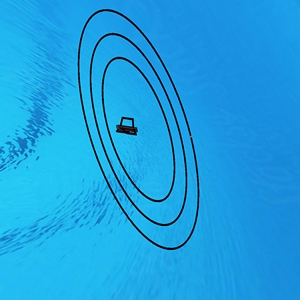circle: (68, 7, 213, 261)
submarine: (113, 115, 138, 136)
